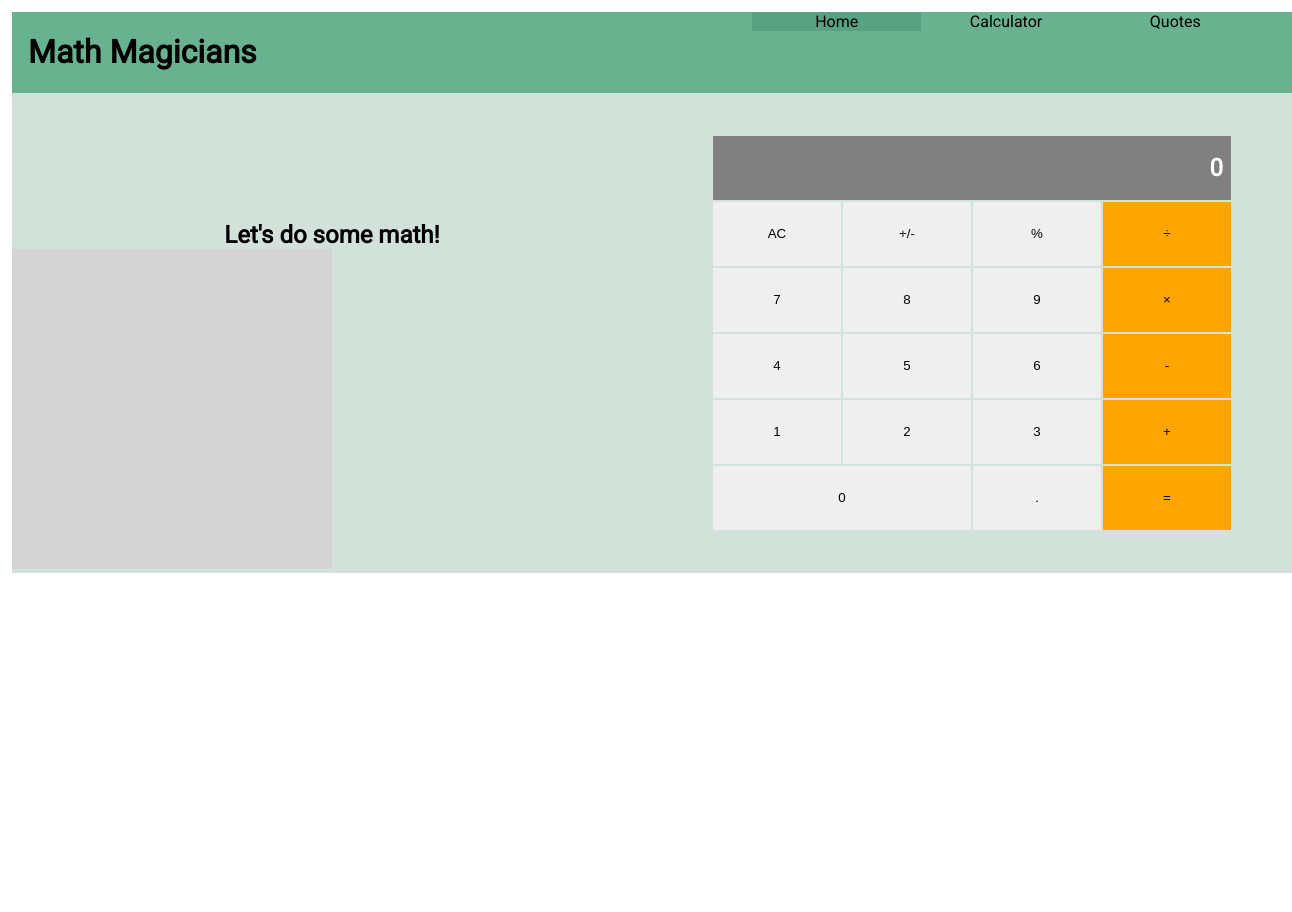
Scenario: Header component tests: › Clicking on Quotes and getting the QuotesPage
This screenshot has width=1292, height=912.
Step 1. Click the link "Quotes" → (1175, 22), box [1150,12,1201,31]
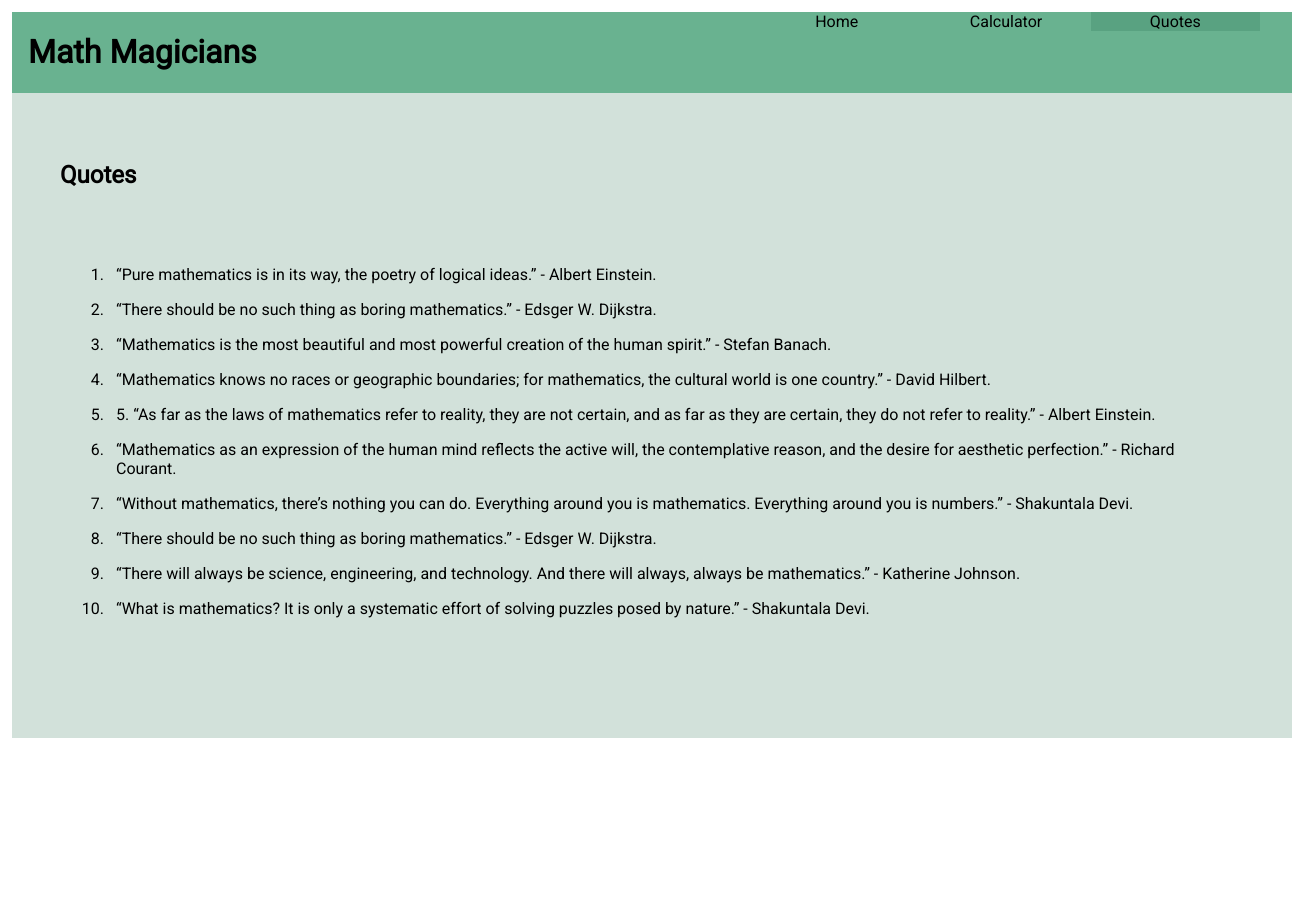
Expected: the element that starts with "Quotes" is shown
